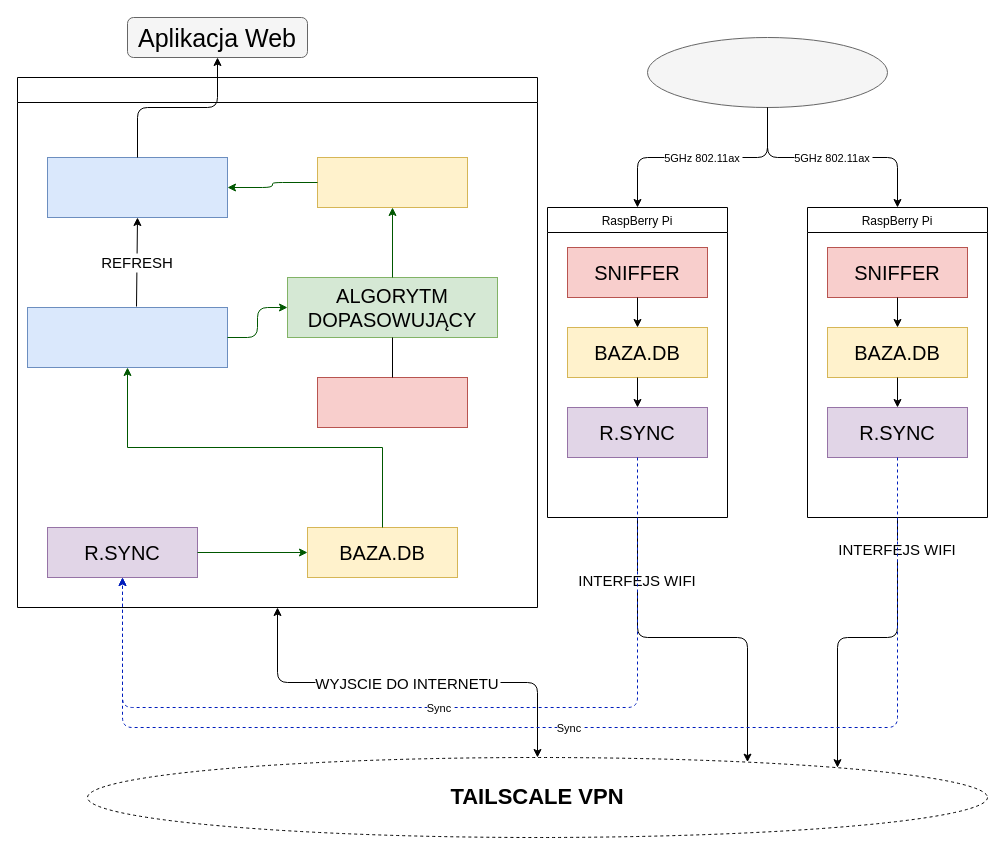
Some shapes in this 1005 by 855 pixel diagram are drawn without their labels. Each missing label, with the box of its shape:
ALGORYTM AUTOMATYZUJACY: (26, 306, 228, 368)
BAZA HTML: (316, 156, 468, 208)
MAPA: (316, 376, 468, 428)
SERVER APACHE: (46, 156, 228, 218)
SERWER: (16, 76, 538, 608)
WIFI → EDUROAM: (646, 36, 888, 108)
